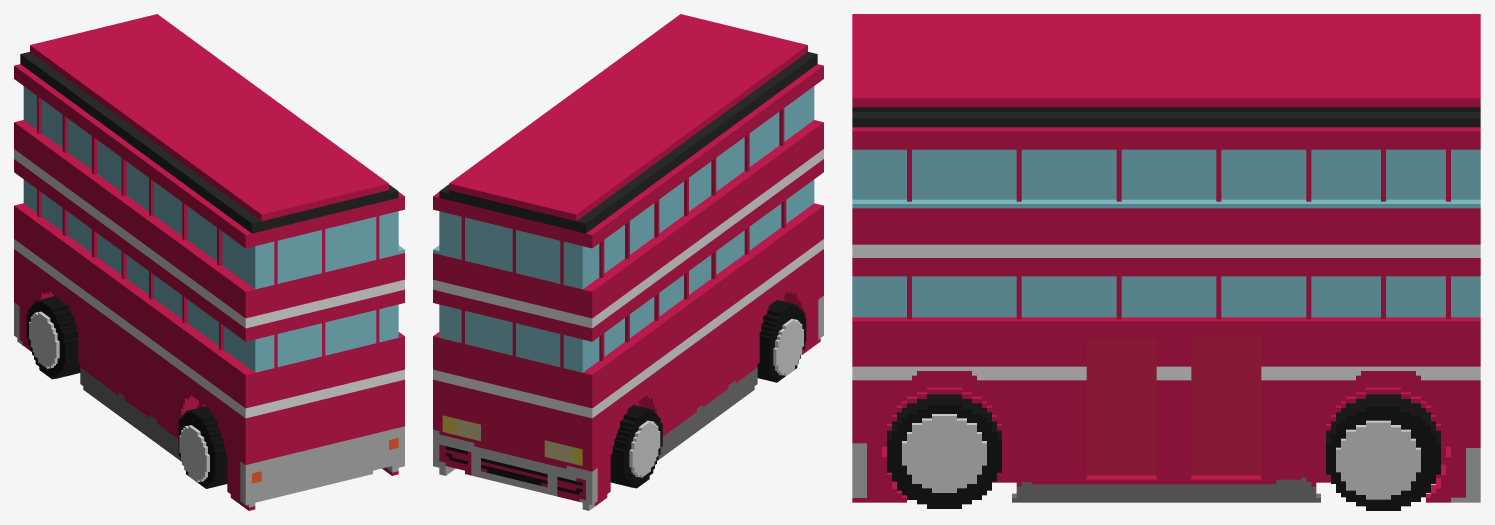
The model's file is bus.obj.
3 views of the same model, side by side, from view 1: azimuth 30°, elevation 25°; view 2: azimuth 150°, elevation 25°; view 3: azimuth 270°, elevation 25° (orthographic). The views are drawn at different scales.
Size of the model in its own units: 5.7 by 8.8 by 12.6.
1 material, 1 textured.
